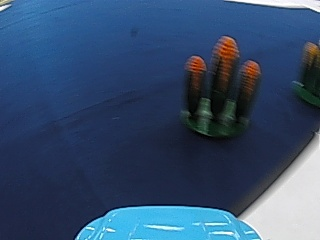corn: (180, 40, 260, 140)
